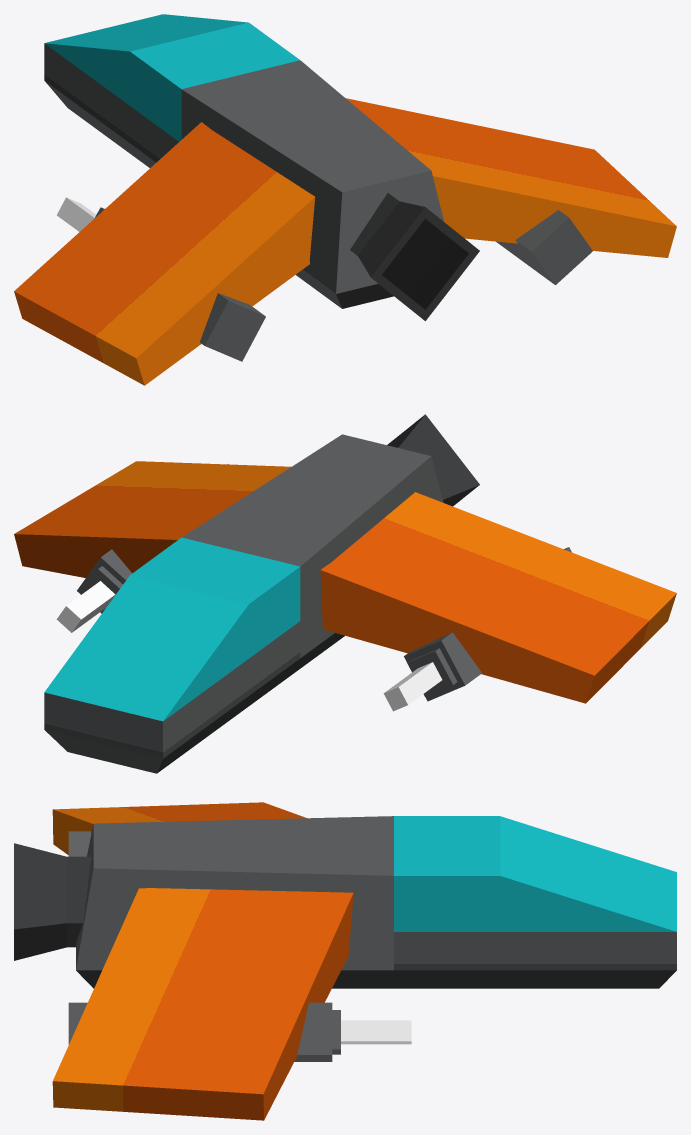
File: SpaceShipV1.gltf
The picture shows the model from 3 angles, top to bottom: view 1: azimuth 30°, elevation 25°; view 2: azimuth 150°, elevation 25°; view 3: azimuth 270°, elevation 25°; orthographic projection. The views are drawn at different scales.
Parts seen in each view (by area): view 1: WingL, Hull1, WingR, Window, Engine, Hull2, CannonR, CannonL, MuzzleL; view 2: WingL, Window, Hull1, WingR, Hull2, Engine, CannonL, MuzzleR, MuzzleL, CannonR; view 3: WingR, Hull1, Window, Hull2, Engine, WingL, CannonR, MuzzleR, CannonL.
Boxes of the visible parts, x1,y1,x2,y2 form: WingL: [14, 122, 315, 385]; Hull1: [181, 60, 443, 308]; WingR: [345, 98, 676, 257]; Window: [44, 14, 299, 141]; Engine: [350, 193, 479, 321]; Hull2: [44, 43, 178, 167]; CannonR: [496, 210, 592, 284]; CannonL: [94, 207, 265, 361]; MuzzleL: [57, 197, 95, 231]; WingL: [320, 492, 676, 703]; Window: [44, 537, 300, 721]; Hull1: [182, 434, 443, 678]; WingR: [14, 461, 291, 577]; Hull2: [44, 621, 300, 773]; Engine: [387, 414, 479, 506]; CannonL: [404, 547, 571, 701]; MuzzleR: [56, 581, 115, 632]; MuzzleL: [383, 662, 442, 711]; CannonR: [77, 464, 228, 613]; WingR: [52, 888, 353, 1120]; Hull1: [76, 816, 393, 988]; Window: [394, 816, 676, 931]; Hull2: [394, 932, 676, 988]; Engine: [14, 843, 91, 960]; WingL: [52, 802, 306, 854]; CannonR: [68, 1002, 340, 1061]; MuzzleR: [341, 1020, 411, 1044]; CannonL: [68, 831, 91, 856].
Size of the model in its own units: 1.22 by 0.2734 by 1.17.
7 materials, 7 textured.
